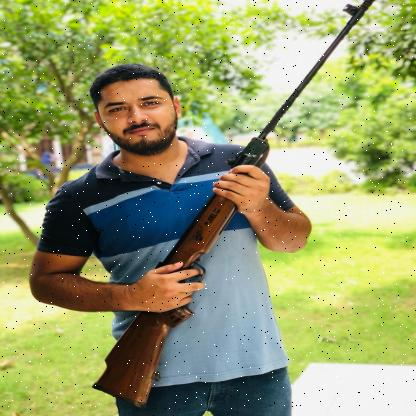rifle: (88, 0, 374, 411)
